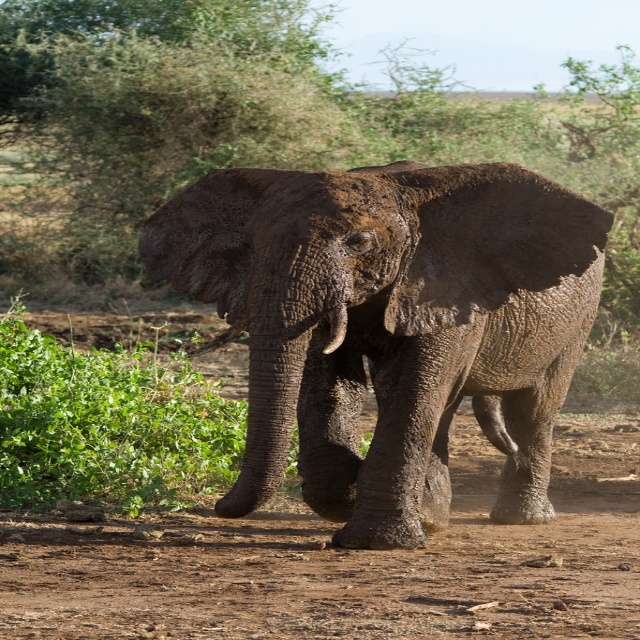Elephant: (133, 158, 618, 548)
